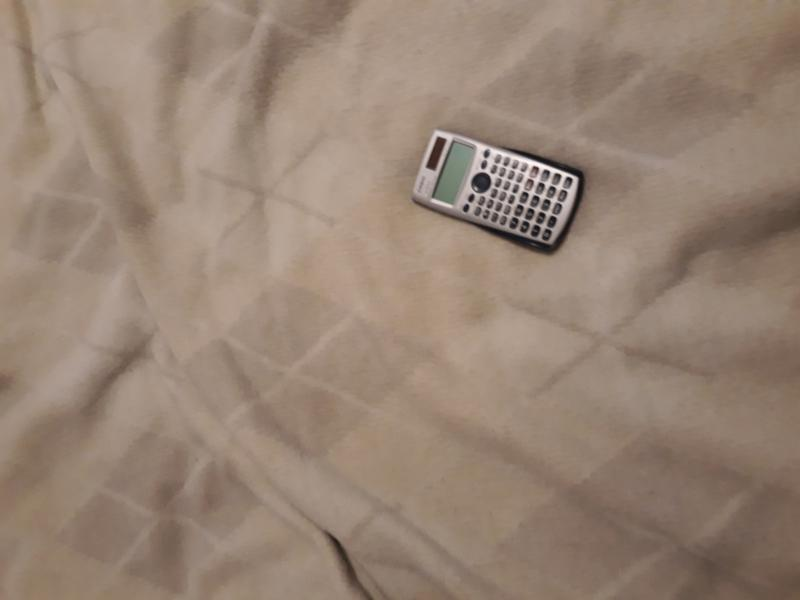CASIO_fx_991ES: (394, 126, 596, 256)
